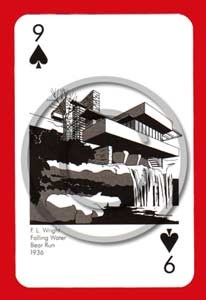NineOfSpades: (11, 9, 197, 289)
